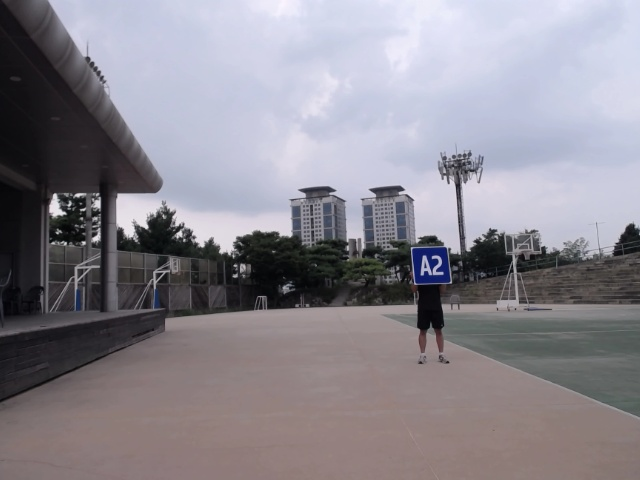delivery_a2: (411, 247, 451, 284)
